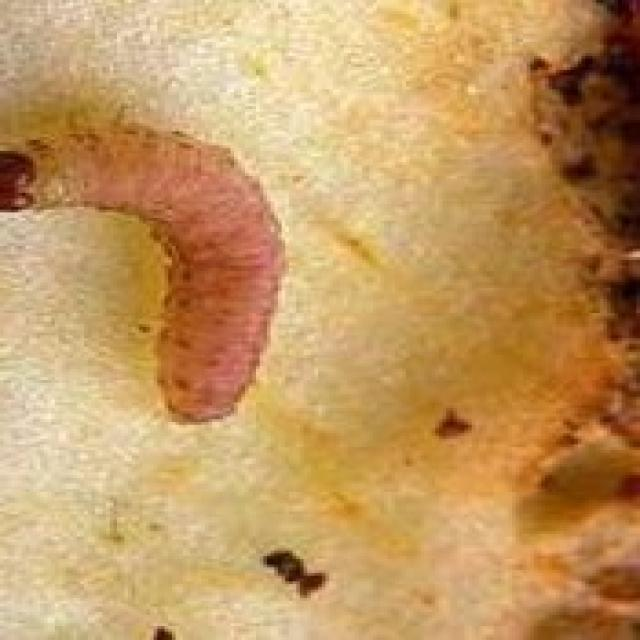peach borer: (1, 115, 294, 425)
